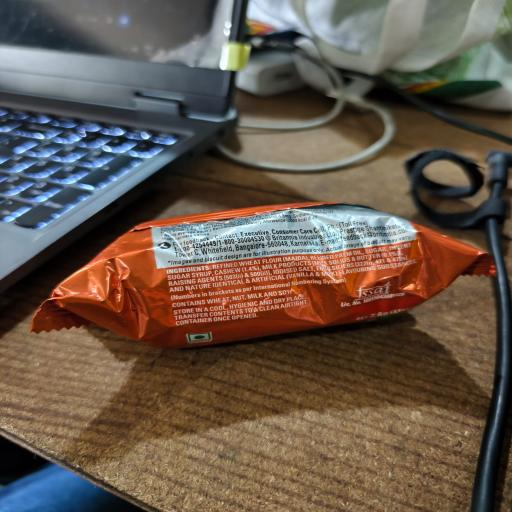goodday: (31, 203, 493, 347)
